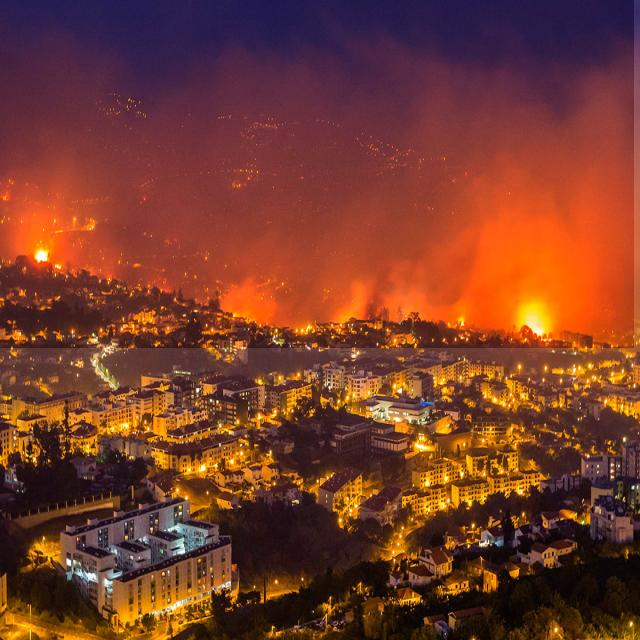Smoke: (0, 0, 634, 348)
